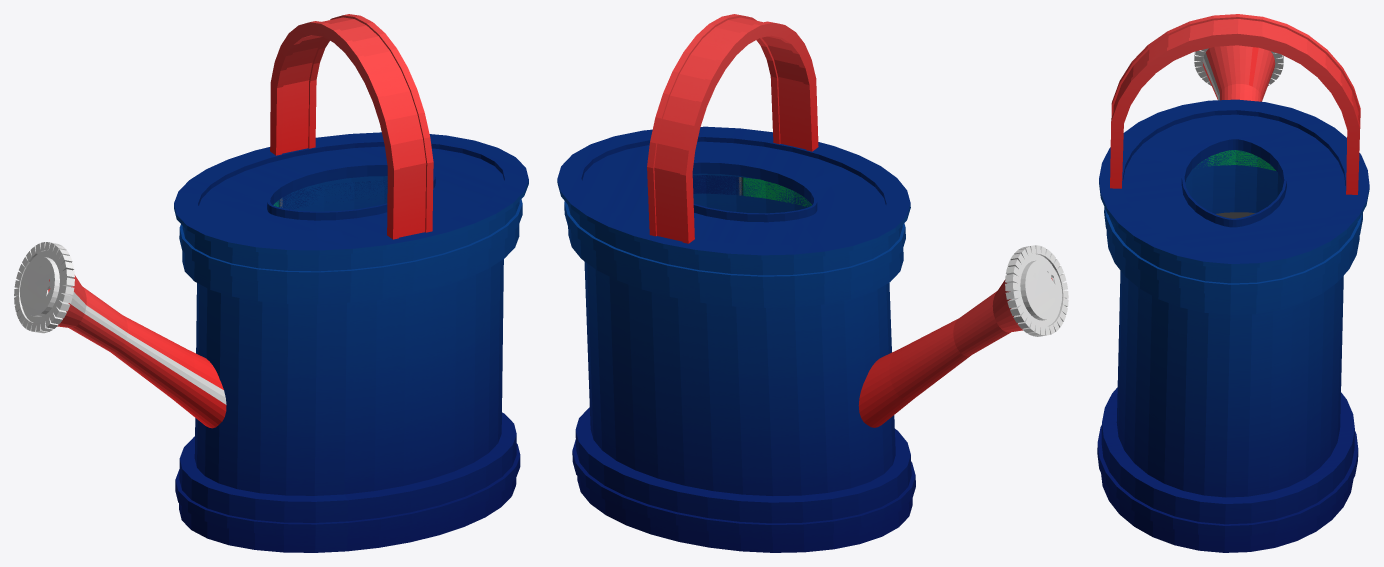
Rendered from Regadorr.fbx.
The picture shows the model from 3 angles, left to right: view 1: azimuth 30°, elevation 25°; view 2: azimuth 150°, elevation 25°; view 3: azimuth 270°, elevation 25°; orthographic projection. The views are drawn at different scales.
Parts seen in each view (by area): view 1: Circle.002; view 2: Circle.002; view 3: Circle.002.
Part boxes in pixels (x1=…): Circle.002: x1=14, y1=14, x2=528, y2=552; Circle.002: x1=557, y1=14, x2=1068, y2=552; Circle.002: x1=1097, y1=14, x2=1369, y2=552.
Bounding box in the file's own units: 117 × 108 × 57.79.
1 material, 1 textured.
